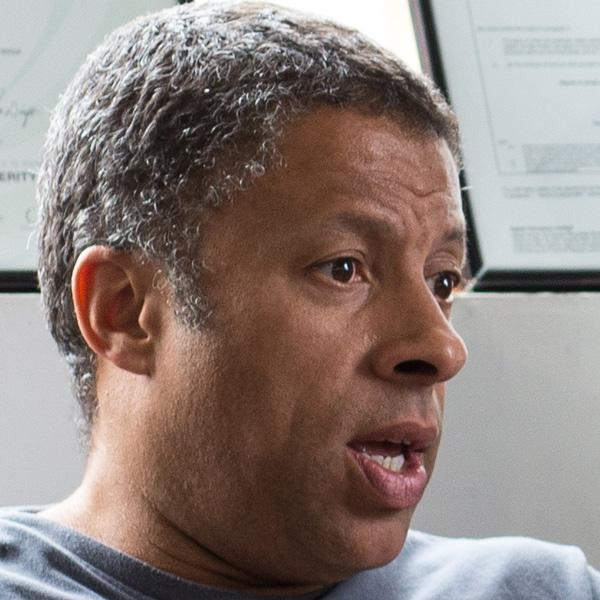Eyes: (299, 238, 379, 300), (419, 246, 465, 311)
